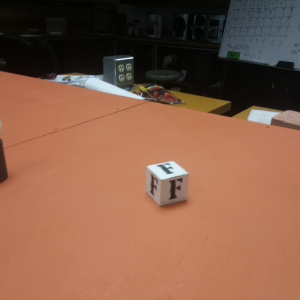blockF: (146, 160, 188, 207)
